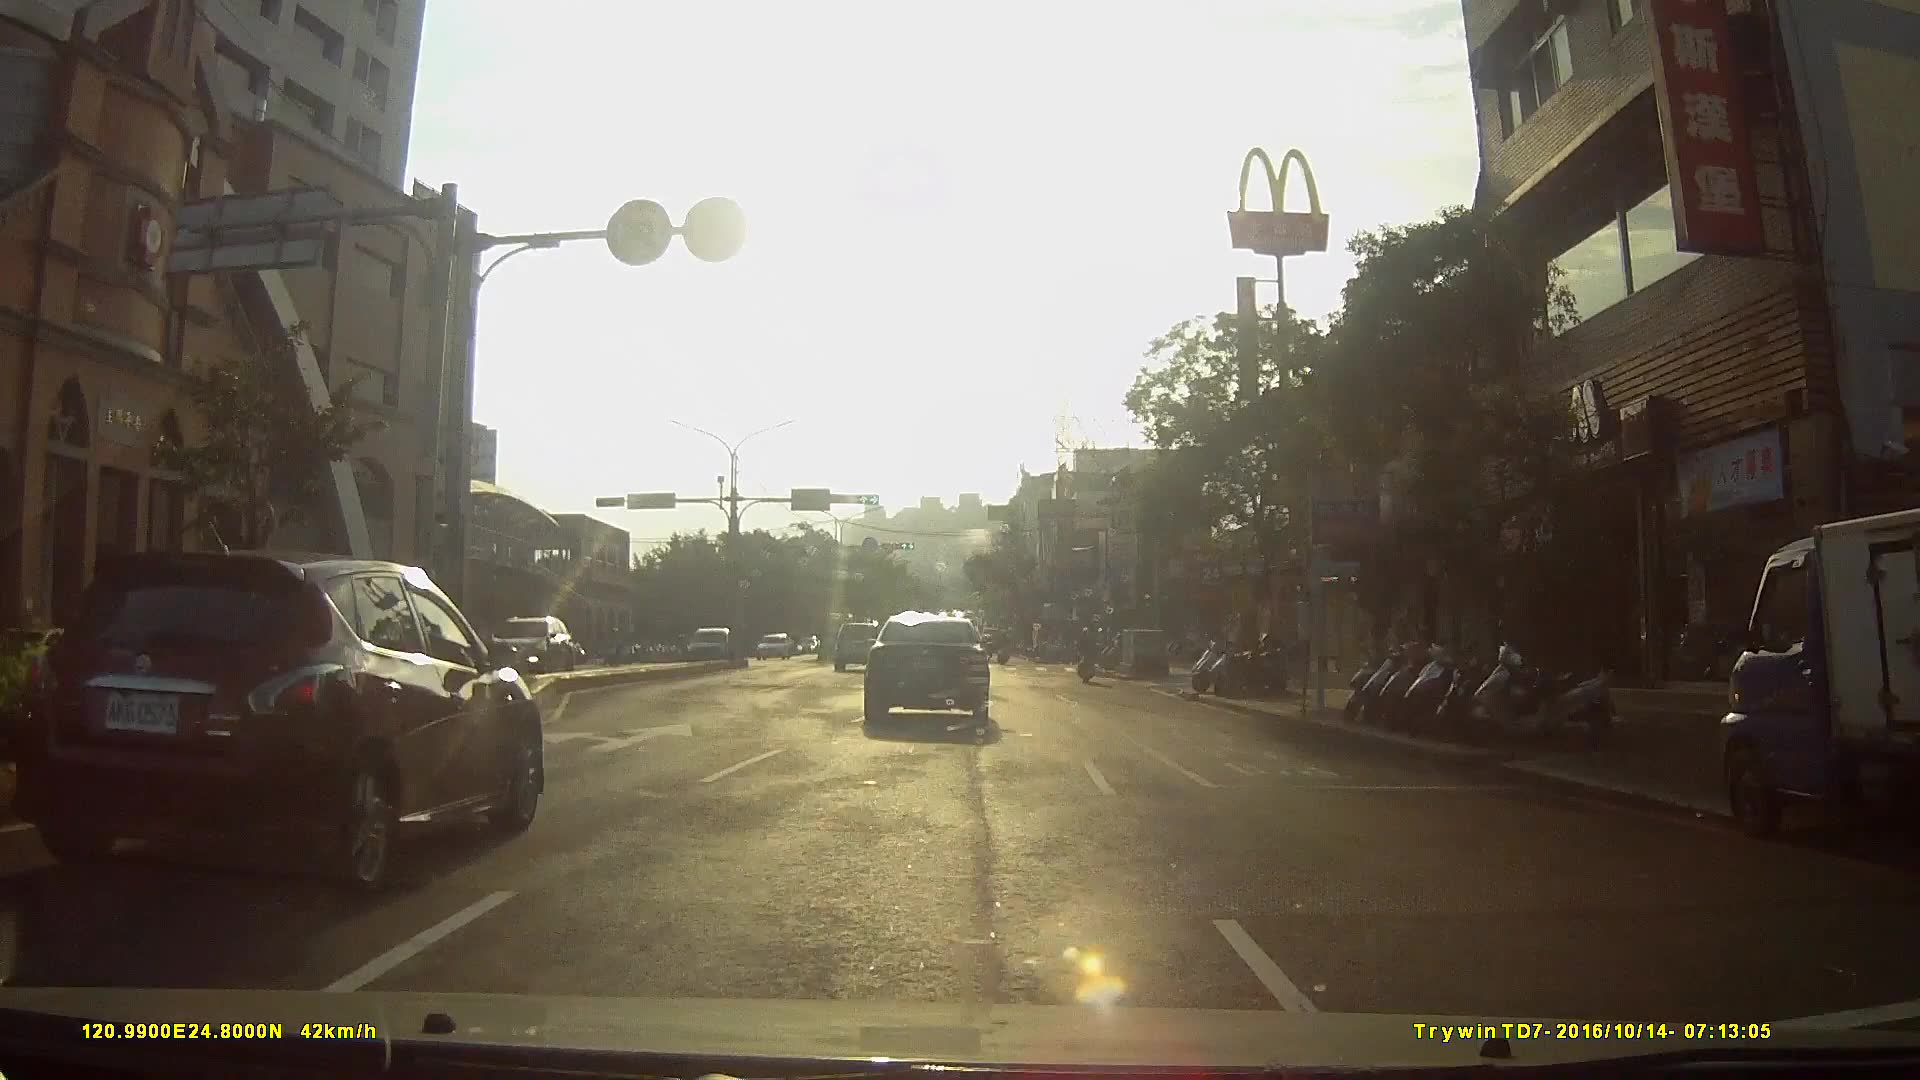rider: (1073, 625, 1098, 688)
vehicle: (19, 543, 553, 900), (1709, 507, 1920, 852), (854, 611, 997, 736), (468, 611, 572, 680), (828, 619, 885, 674), (678, 625, 737, 667), (753, 633, 792, 664)
